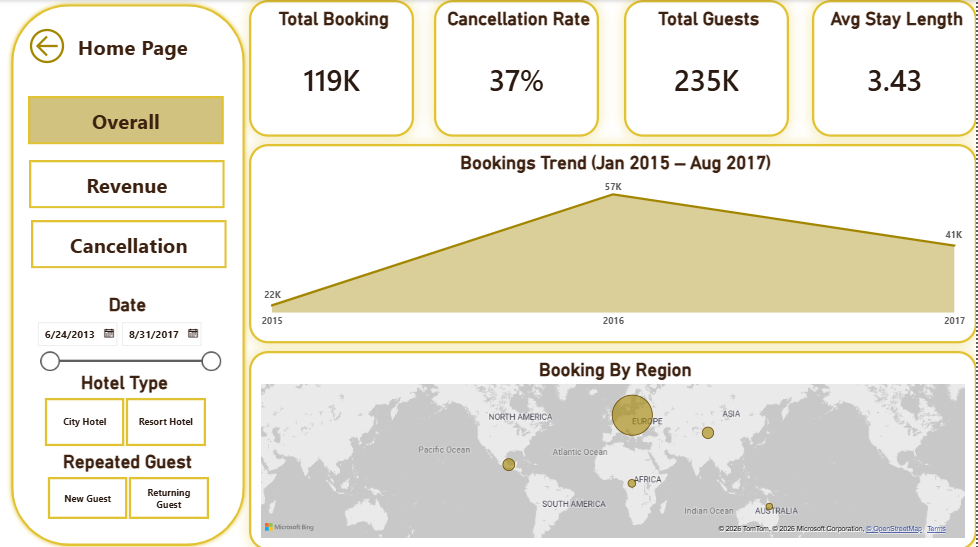

The page's visual inventory and layout, read from the dashboard file:
{"tool":"powerbi","page":{"name":"Overall","canvas":[1280,720],"ordinal":1},"visuals":[{"type":"shape","box":[10.1,0,316.8,720],"z":0,"group":"g1"},{"type":"areaChart","title":"Bookings Trend (Jan 2015 – Aug 2017)","fields":{"Category":["dates.Date Hierarchy.Date","dates.Date Hierarchy.year","dates.Date Hierarchy.quarter","dates.Date Hierarchy.month"],"Y":["measures (2).Total Bookings"]},"box":[326.9,188.6,953.3,260.6],"z":1000},{"type":"map","title":"Booking By Region","fields":{"Size":["measures (2).Total Bookings"],"Category":["country.region Hierarchy.region","country.region Hierarchy.country_name"]},"box":[326.9,459.4,953.3,260.6],"z":2000},{"type":"cardVisual","title":"Total Booking","fields":{"Data":["measures (2).Total Bookings"]},"box":[326.9,0,216,178.6],"z":3000},{"type":"cardVisual","title":"Cancellation Rate","fields":{"Data":["measures (2).Cancellation Rate"]},"box":[568.8,0,216,178.6],"z":4000},{"type":"cardVisual","title":"Total Guests  ","fields":{"Data":["measures (2).Total Guests"]},"box":[817.9,0,216,178.6],"z":5000},{"type":"cardVisual","title":"Avg Stay Length","fields":{"Data":["measures (2).Avg Stay Length"]},"box":[1064.2,0,216,178.6],"z":6000},{"type":"actionButton","title":"Home Page","box":[33.1,31.7,282.2,57.6],"z":7000,"group":"g1"},{"type":"slicer","title":"Hotel Type","fields":{"Values":["hotel_bookings.hotel"]},"box":[33.1,486.7,260.6,103.7],"z":8000,"group":"g1"},{"type":"slicer","title":"Repeated Guest","fields":{"Values":["hotel_bookings.guest_type"]},"box":[37.5,590.4,260.6,96.5],"z":9000,"group":"g1"},{"type":"slicer","title":"Date ","fields":{"Values":["dates.Date"]},"box":[37.5,384.5,260.6,102.2],"z":10000,"group":"g1"},{"type":"actionButton","title":"Overall","box":[37.5,125.3,256.3,63.4],"z":11000,"group":"g1"},{"type":"actionButton","title":"Revenue","box":[38.9,208.8,256.3,63.4],"z":11500,"group":"g1"},{"type":"actionButton","title":"Cancellation","box":[41.8,288,256.3,63.4],"z":12000,"group":"g1"},{"type":"group","id":"g1","title":"Group 1","box":[10.1,0,316.8,720],"z":12001}]}

Visuals, with their boxes in screenshot pixels (x1, y1, x2, y2), scaled from the page's 1280x720 canvas onto the 978x547 screenshot:
shape: select_region(8, 0, 250, 546)
"Bookings Trend (Jan 2015 – Aug 2017)" areaChart: select_region(250, 143, 977, 341)
"Booking By Region" map: select_region(250, 349, 977, 546)
"Total Booking" cardVisual: select_region(250, 0, 415, 136)
"Cancellation Rate" cardVisual: select_region(435, 0, 600, 136)
"Total Guests  " cardVisual: select_region(625, 0, 790, 136)
"Avg Stay Length" cardVisual: select_region(813, 0, 977, 136)
"Home Page" actionButton: select_region(25, 24, 241, 68)
"Hotel Type" slicer: select_region(25, 370, 224, 449)
"Repeated Guest" slicer: select_region(29, 449, 228, 522)
"Date " slicer: select_region(29, 292, 228, 370)
"Overall" actionButton: select_region(29, 95, 224, 143)
"Revenue" actionButton: select_region(30, 159, 226, 207)
"Cancellation" actionButton: select_region(32, 219, 228, 267)
"Group 1" group: select_region(8, 0, 250, 546)
